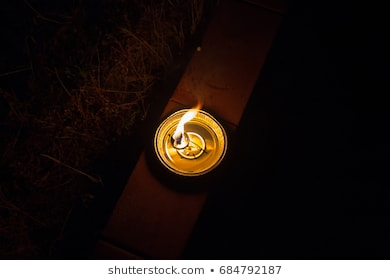Fire: (172, 100, 206, 140)
